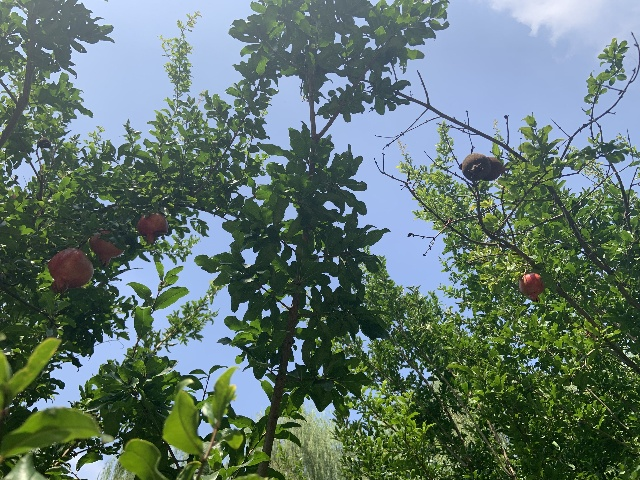ripe: (48, 248, 94, 295), (89, 231, 125, 266), (137, 213, 168, 244), (518, 272, 544, 302)
